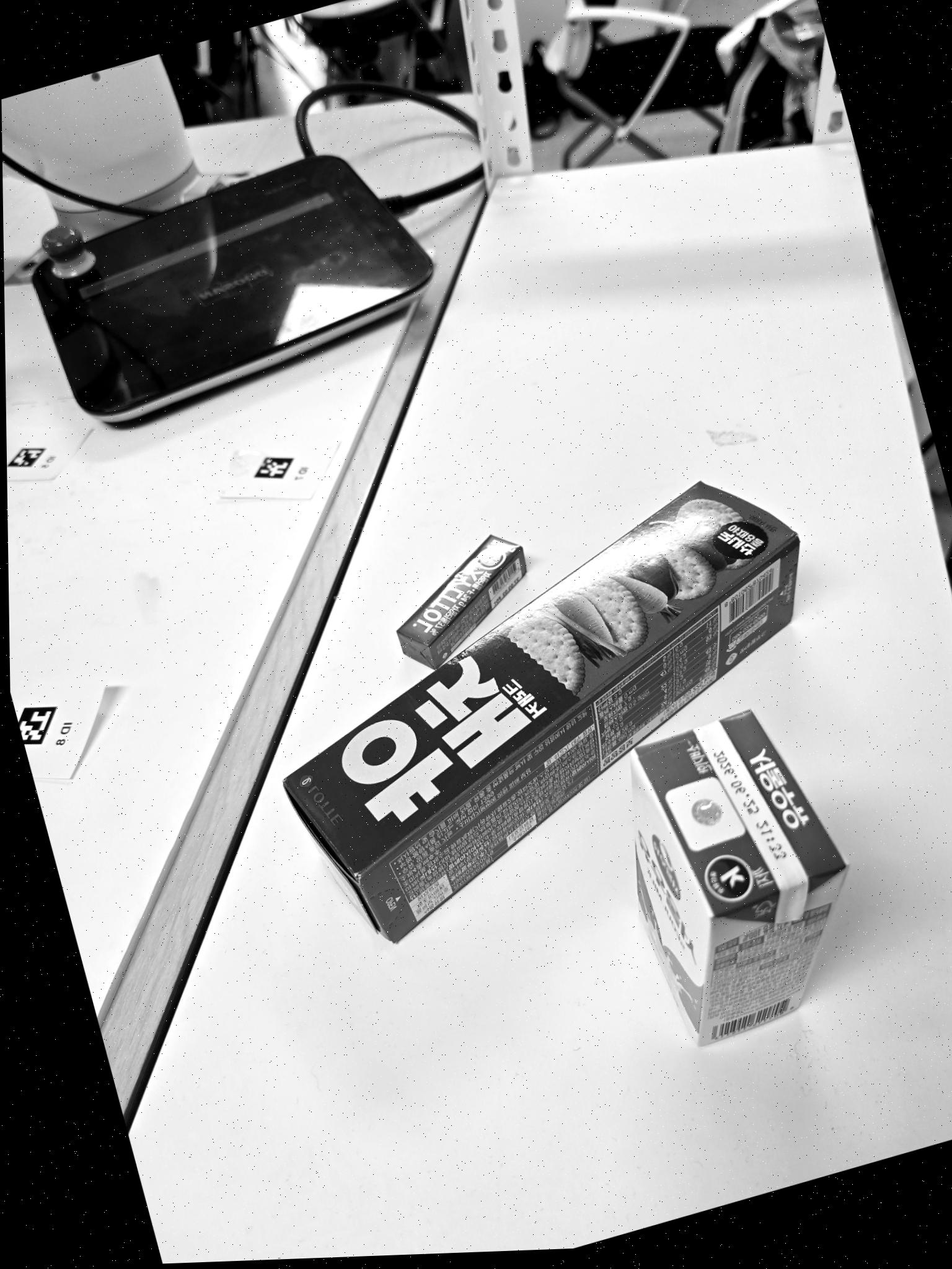cracker_vege: (284, 482, 800, 941)
gum_green: (398, 535, 526, 668)
milk_green: (630, 711, 846, 1044)
